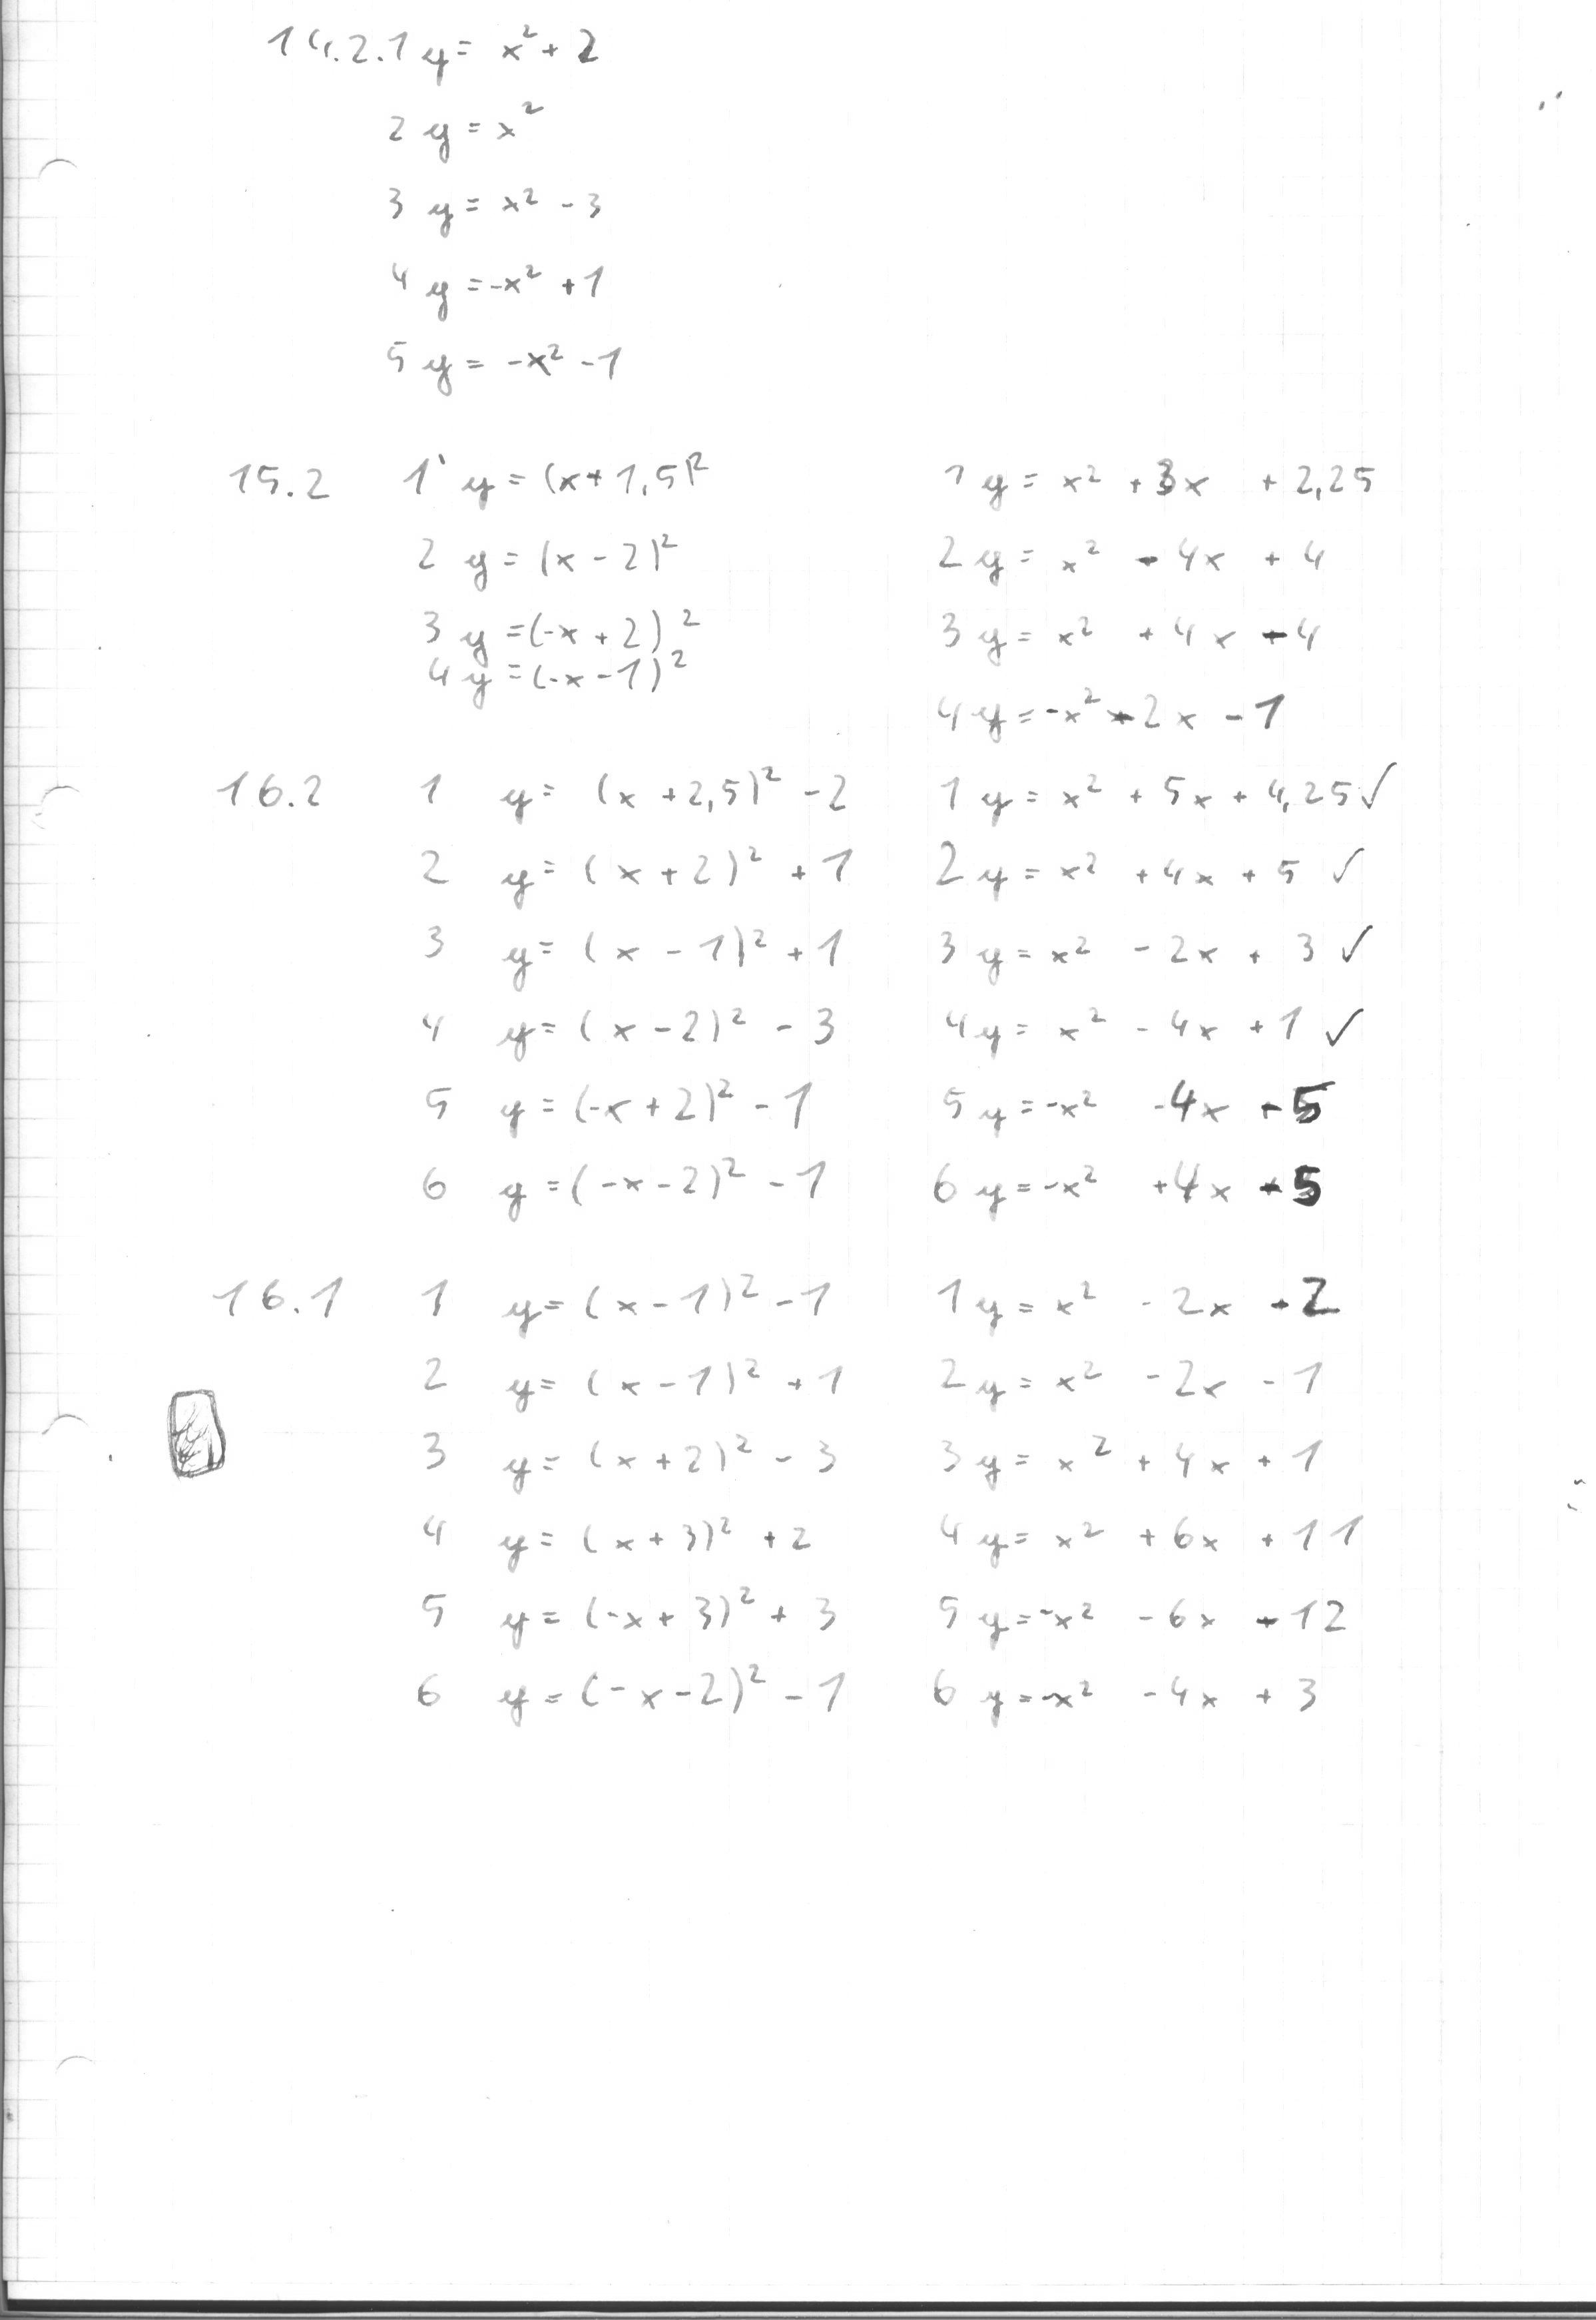word: (918, 1254, 1388, 1751), (915, 750, 1369, 1248), (481, 748, 870, 1250), (486, 1255, 876, 1745), (913, 434, 1406, 756), (390, 429, 727, 728), (357, 87, 660, 417), (388, 745, 472, 1236), (179, 410, 376, 542), (186, 1229, 367, 1363), (192, 735, 364, 858), (393, 1502, 471, 1727), (402, 1260, 469, 1496)
